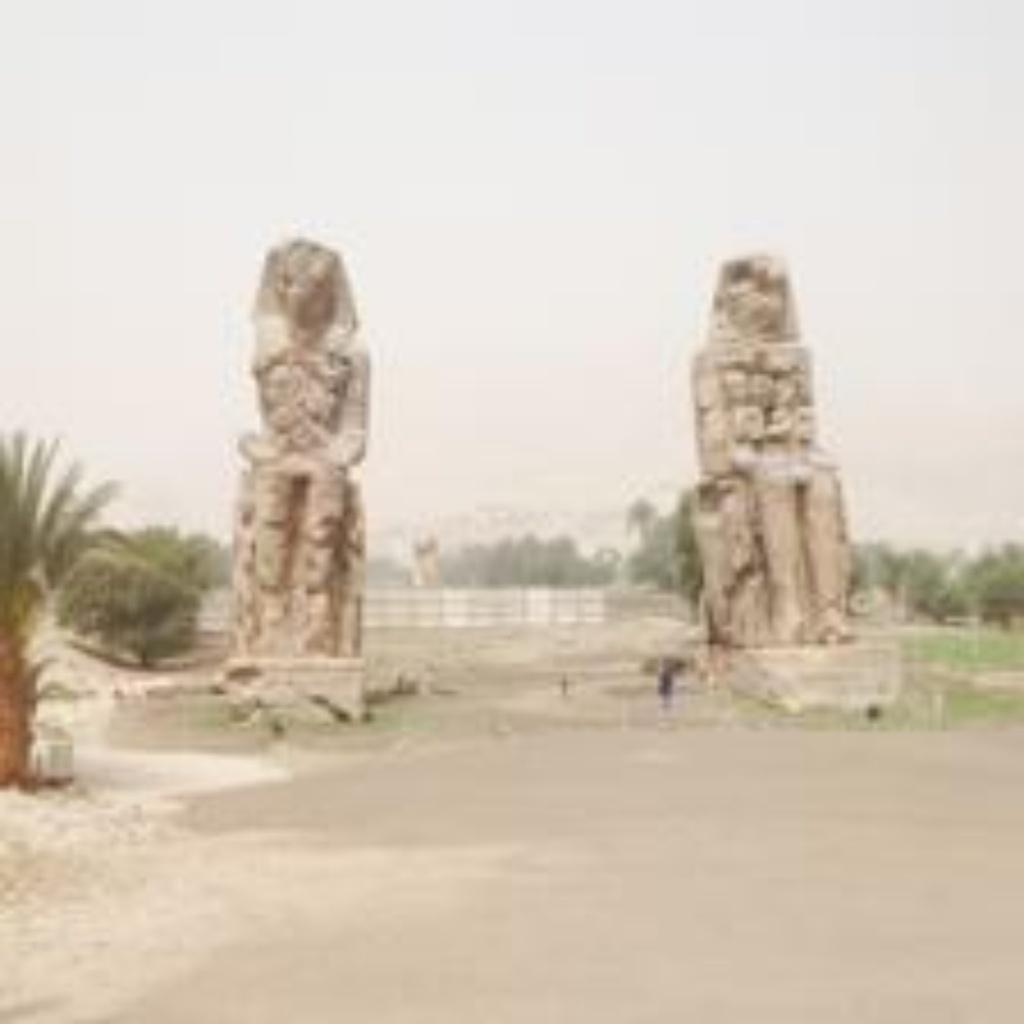Colossoi of Memnon: (210, 224, 380, 704), (672, 242, 859, 654)
